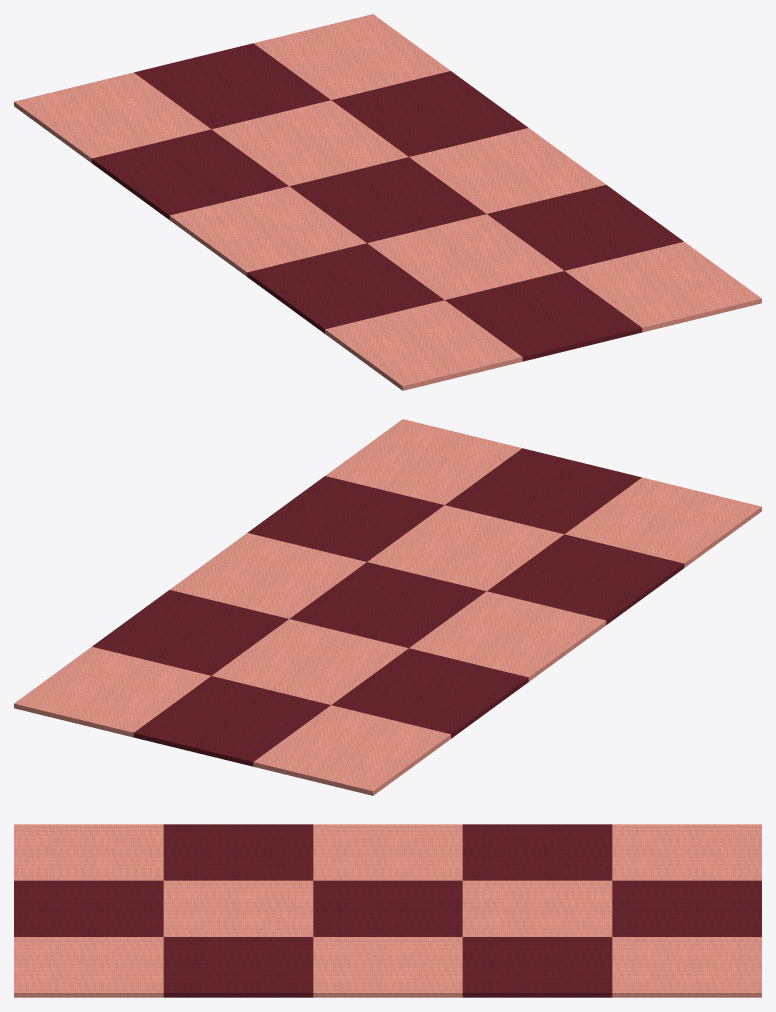
The model's file is alfombra-cuadros-rosa-rojo-80x150.glb.
3 renders of one model, top to bottom at view 1: azimuth 30°, elevation 25°; view 2: azimuth 150°, elevation 25°; view 3: azimuth 270°, elevation 25°, orthographic. The views are drawn at different scales.
Parts seen in each view (by area): view 1: alfombra-cuadros; view 2: alfombra-cuadros; view 3: alfombra-cuadros.
Part boxes in pixels (bbox=[...]): alfombra-cuadros: bbox=[14, 14, 761, 390]; alfombra-cuadros: bbox=[14, 419, 761, 795]; alfombra-cuadros: bbox=[14, 824, 761, 997].
Bounding box in the file's own units: 0.8 × 0.01 × 1.5.
Materials: 2 (2 with a texture image).
